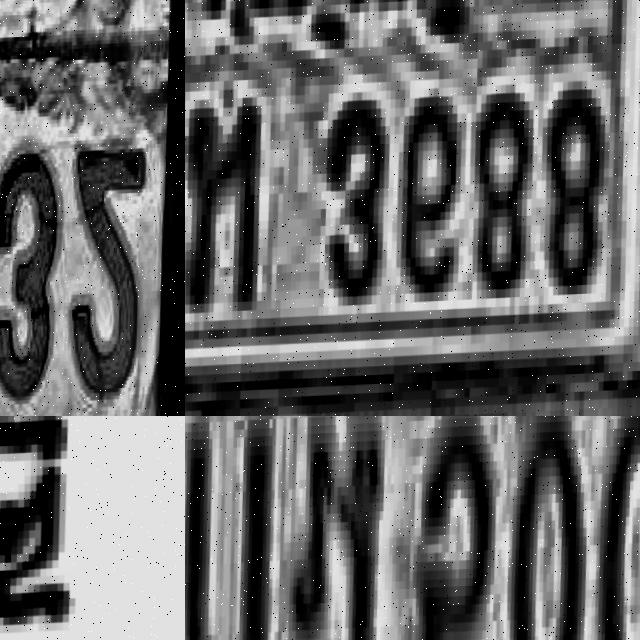license-plate: (185, 0, 640, 401), (185, 416, 640, 640), (0, 0, 185, 416), (0, 416, 185, 640)
